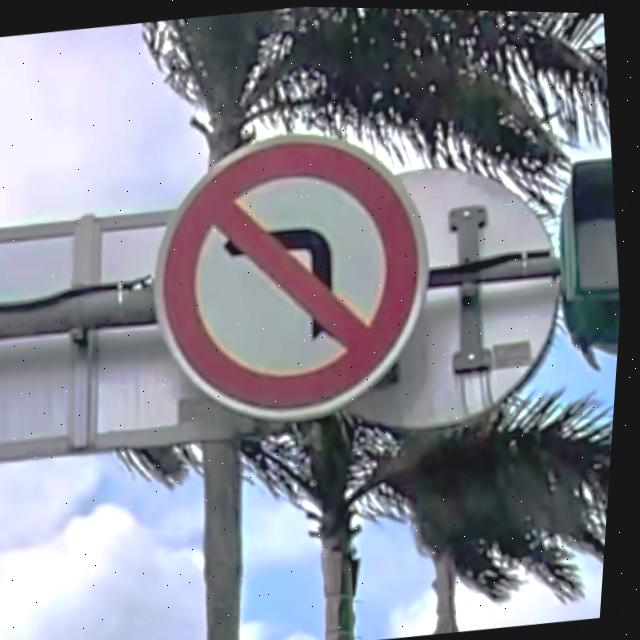noturnleft: (166, 138, 422, 405)
